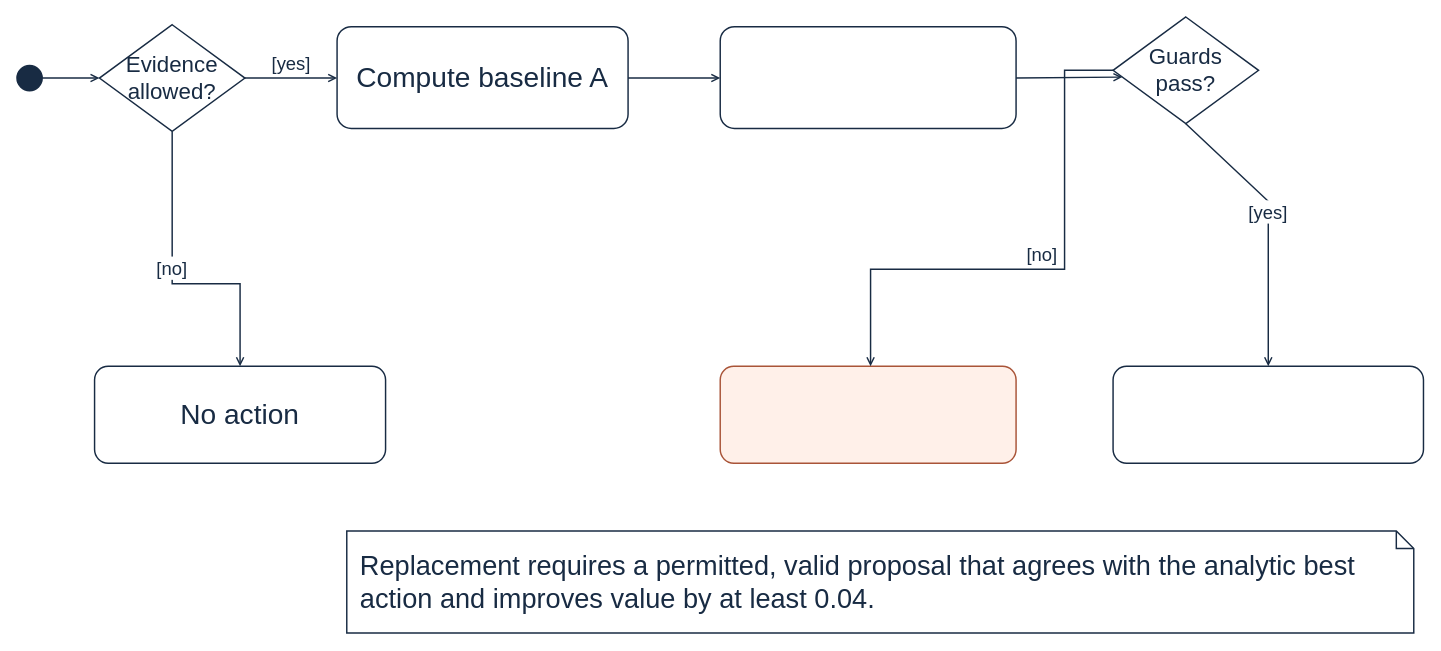
Some shapes in this 1441 by 651 pixel diagram are drawn without their labels. Each missing label, with the centre of its shape:
Evaluate proposal and analytic value: (867,77)
Keep the rule-based baseline A: (867,414)
Use proposal: (1268,414)
